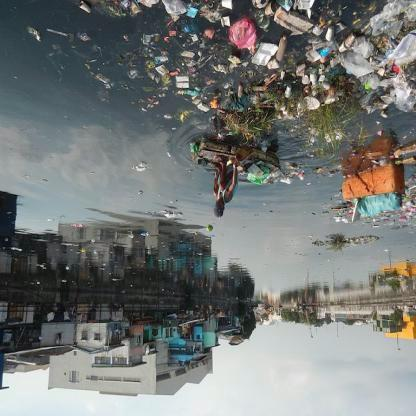Plastic: (232, 21, 258, 49), (338, 34, 360, 55), (276, 34, 288, 66), (236, 84, 246, 102), (327, 26, 334, 45)
